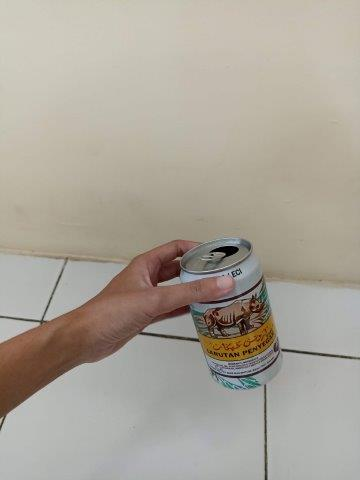kaleng: (180, 238, 284, 393)
